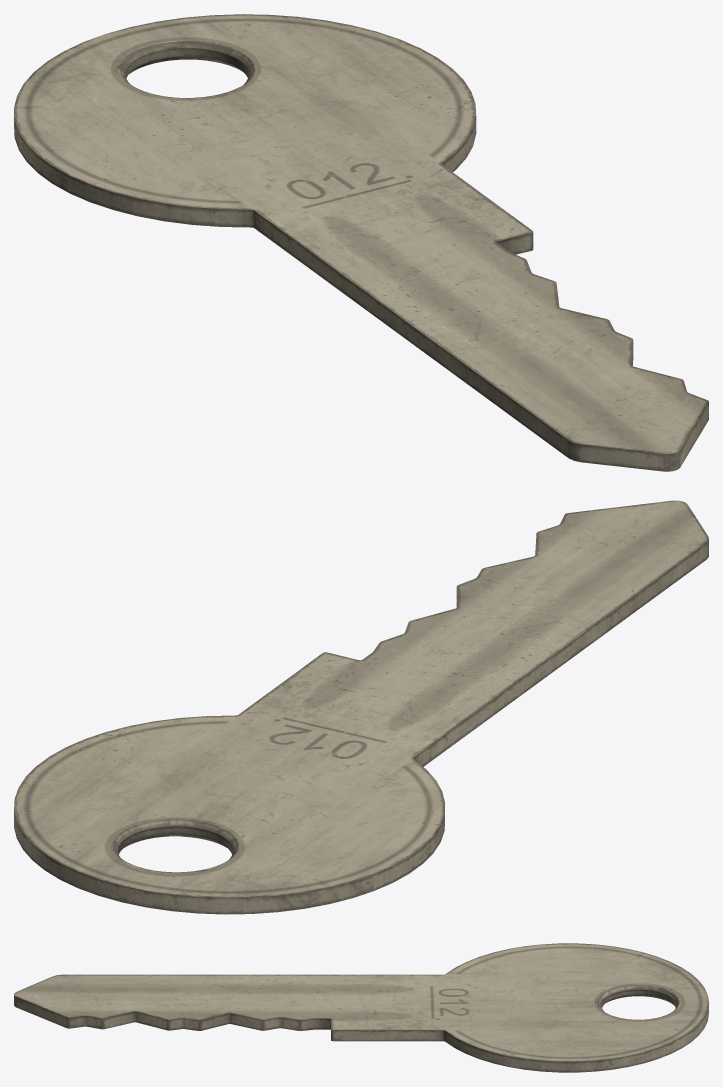
File: chest_key.glb
3 renders of one model, top to bottom at view 1: azimuth 30°, elevation 25°; view 2: azimuth 150°, elevation 25°; view 3: azimuth 270°, elevation 25°, orthographic. The views are drawn at different scales.
Parts seen in each view (by area): view 1: Key; view 2: Key; view 3: Key.
Boxes of the visible parts, x1=… form: Key: x1=14, y1=14, x2=708, y2=471; Key: x1=14, y1=500, x2=708, y2=914; Key: x1=14, y1=943, x2=708, y2=1072.
Bounding box in the file's own units: 0.6343 × 0.0269 × 1.57.
Materials: 1 (1 with a texture image).
